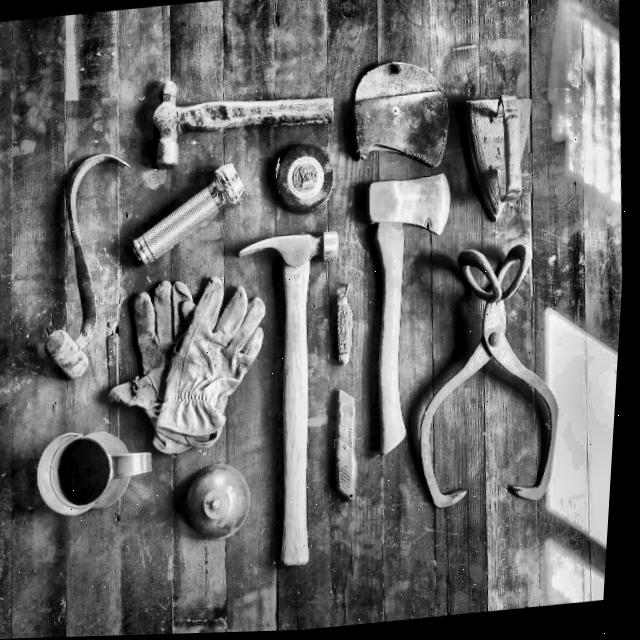kapak: (362, 168, 457, 459)
